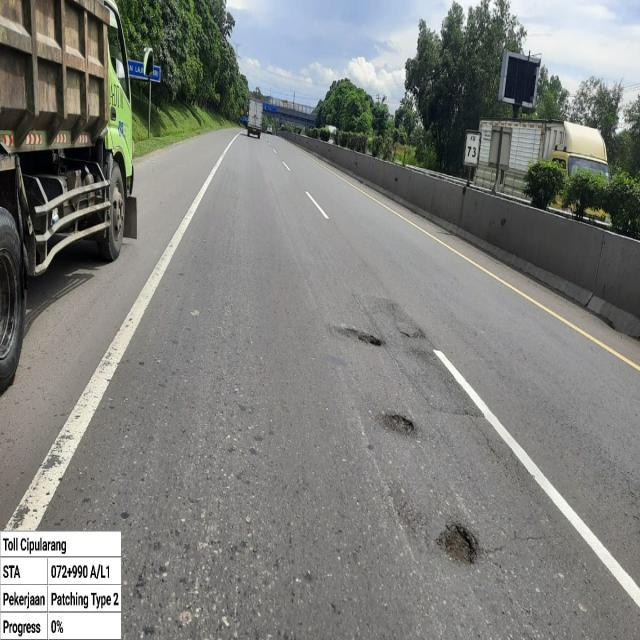Buraco: (432, 520, 482, 568), (325, 322, 389, 348), (372, 412, 418, 438), (394, 325, 428, 341)
